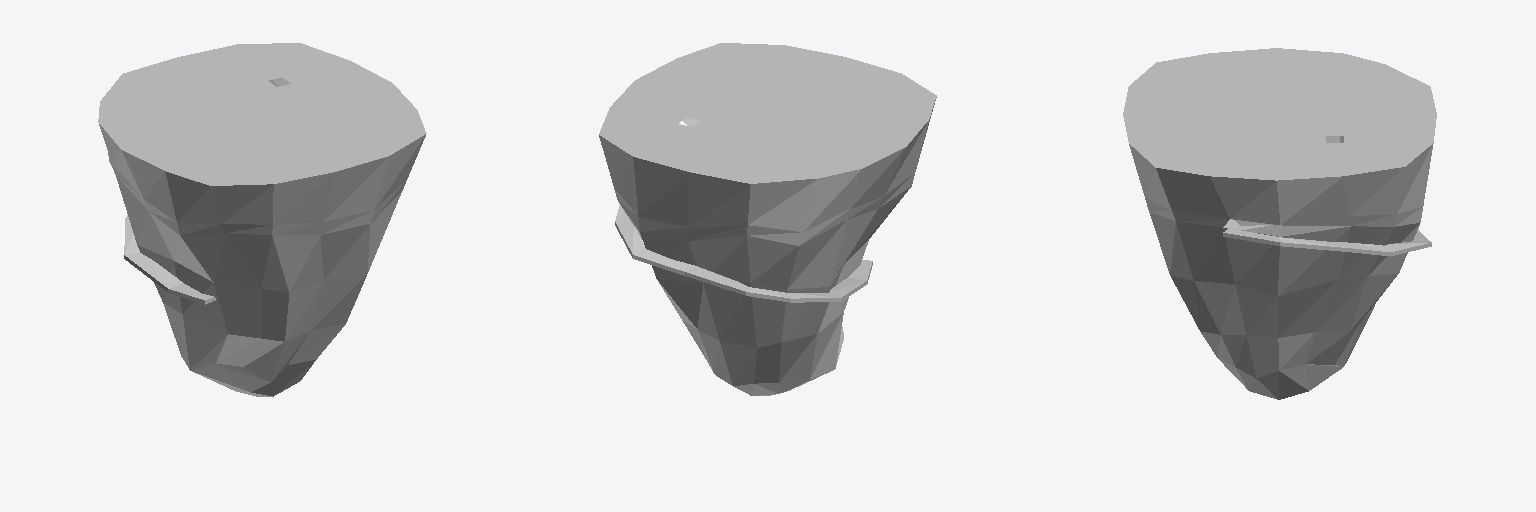
The model's file is island_hollow_mock.obj.
3 renders of one model, left to right at view 1: azimuth 30°, elevation 25°; view 2: azimuth 150°, elevation 25°; view 3: azimuth 270°, elevation 25°, orthographic.
Visible parts, largest first — view 1: churchIsland, pCube1; view 2: churchIsland, pCube1; view 3: churchIsland, pCube1.
Boxes of the visible parts, x1=… form: churchIsland: x1=98, y1=43, x2=426, y2=396; pCube1: x1=124, y1=215, x2=215, y2=304; churchIsland: x1=599, y1=43, x2=936, y2=395; pCube1: x1=615, y1=205, x2=872, y2=302; churchIsland: x1=1123, y1=48, x2=1436, y2=399; pCube1: x1=1223, y1=225, x2=1431, y2=256.
Bounding box in the file's own units: 70.75 × 69.85 × 70.37.